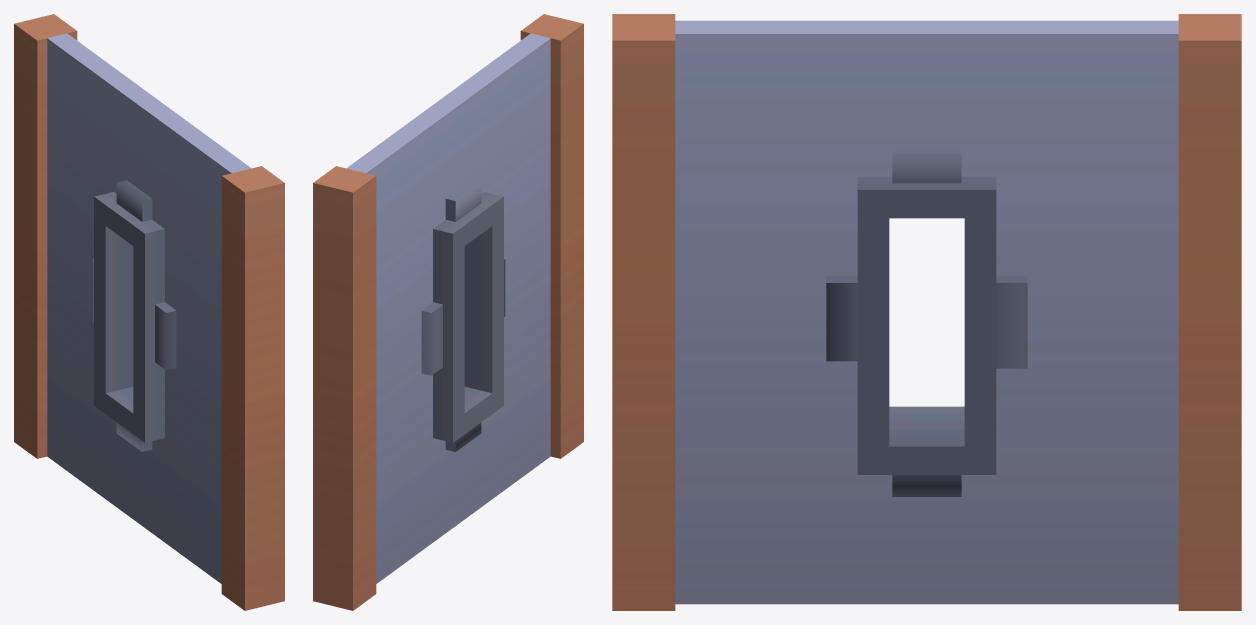
The model's file is wall-window-stone.glb.
The picture shows the model from 3 angles, left to right: view 1: azimuth 30°, elevation 25°; view 2: azimuth 150°, elevation 25°; view 3: azimuth 270°, elevation 25°; orthographic projection. The views are drawn at different scales.
Visible parts, largest first — view 1: wall-window-stone; view 2: wall-window-stone; view 3: wall-window-stone.
Part boxes in pixels (<box>): wall-window-stone: <box>14,14,284,610</box>; wall-window-stone: <box>313,14,583,610</box>; wall-window-stone: <box>612,14,1241,610</box>.
Bounding box in the file's own units: 0.15 × 1 × 1.
Materials: 1 (1 with a texture image).
